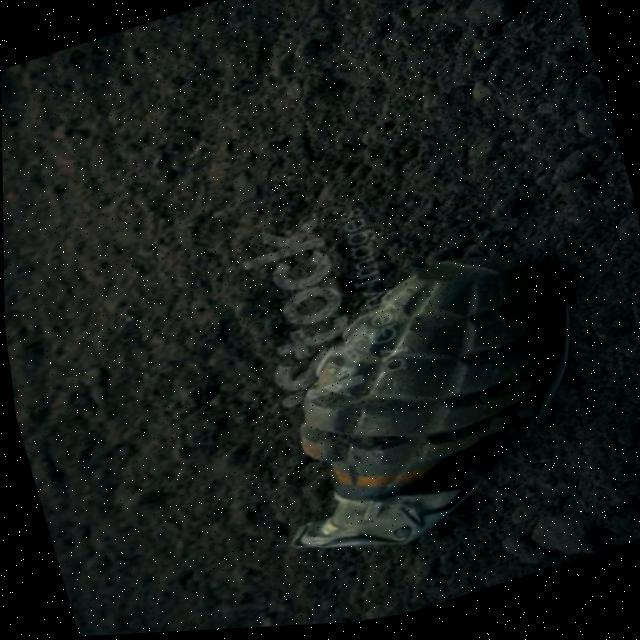grenade: (221, 219, 624, 591)
